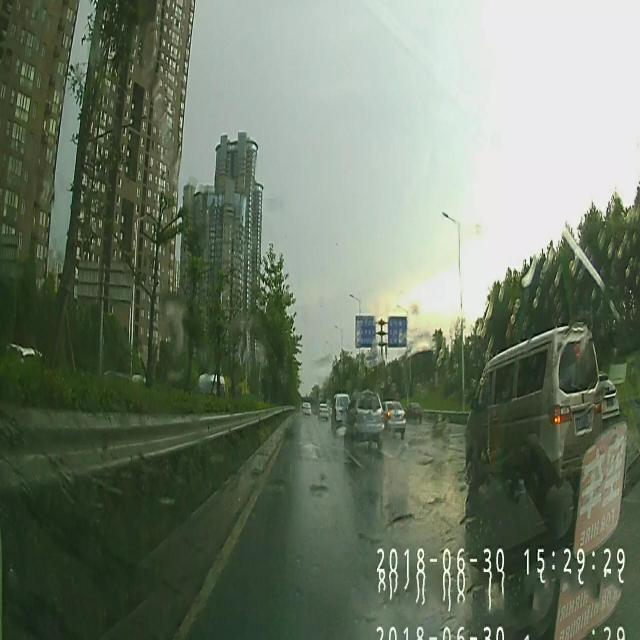car: (464, 321, 603, 512), (343, 390, 386, 454), (592, 372, 624, 432), (380, 397, 407, 440), (332, 396, 352, 428), (404, 400, 424, 426), (319, 402, 328, 423), (302, 401, 310, 416)
